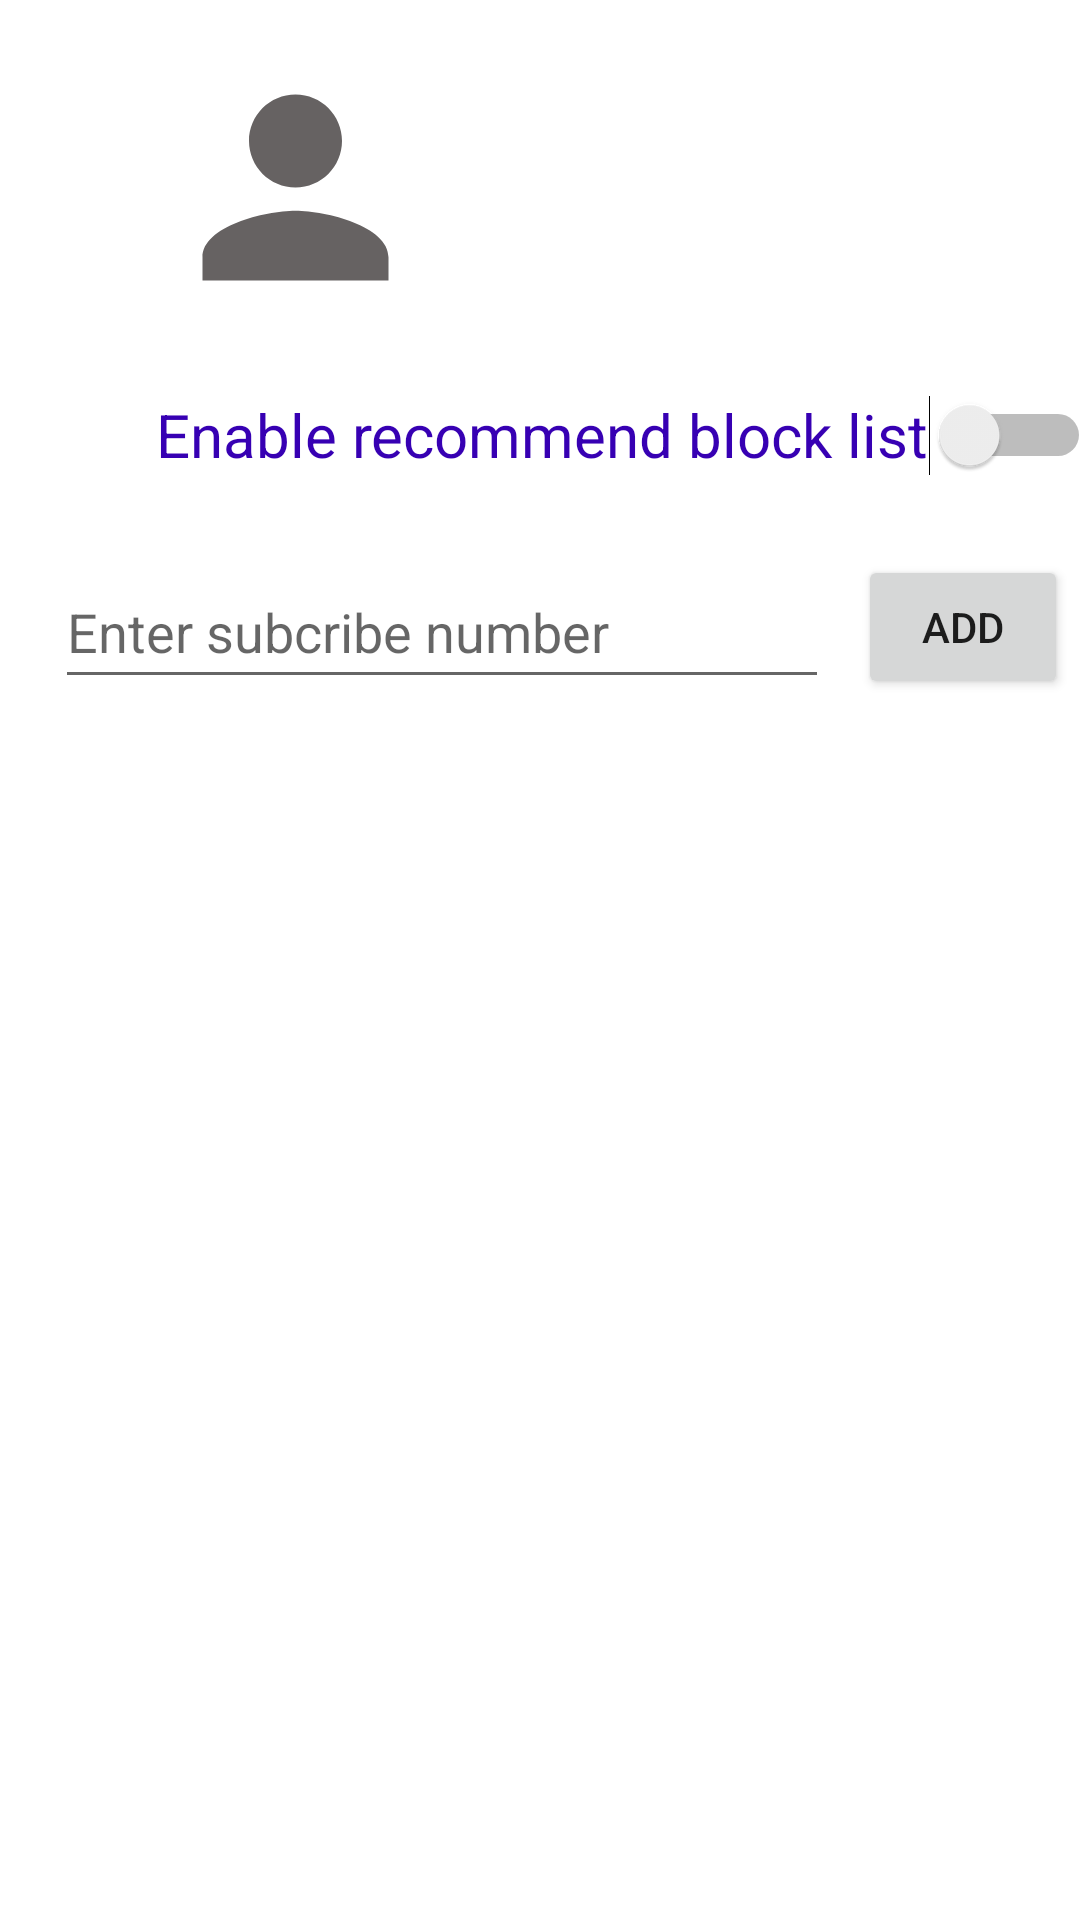

Icons on this 1080px x 1920px Android screen, each with its box as (x1, y1, x2, y2):
person: (202, 94, 389, 281)
